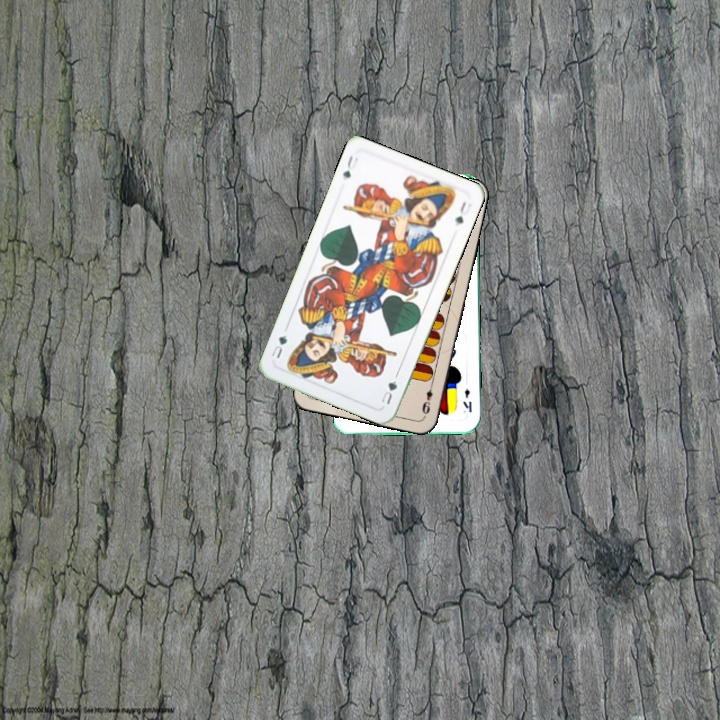E9: (418, 378, 436, 419)
EK: (459, 385, 474, 415)
GU: (377, 370, 401, 407), (339, 151, 361, 181)
